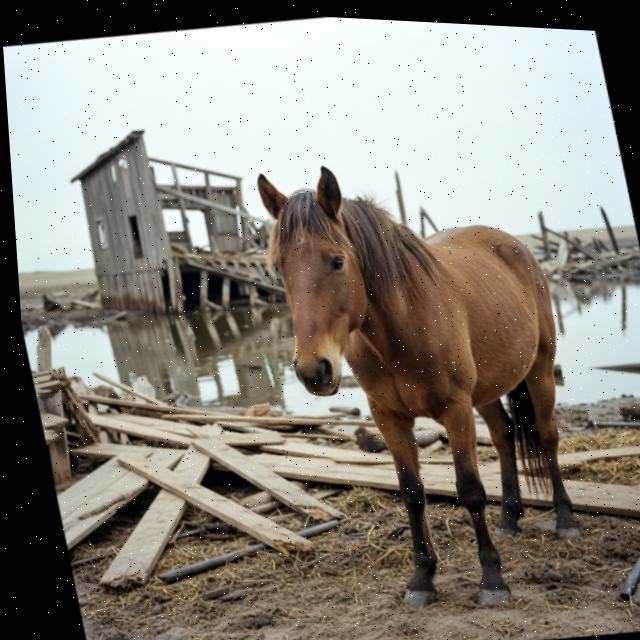horse: (222, 114, 640, 640)
